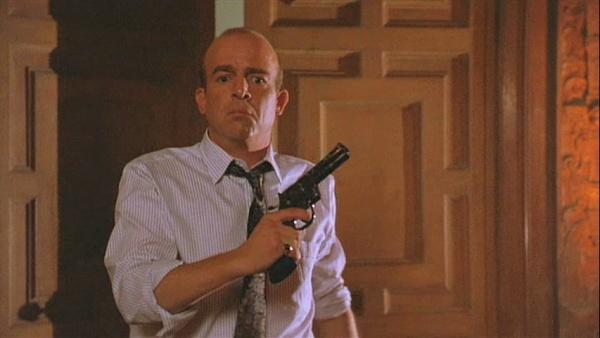Gun: (274, 142, 352, 280)
